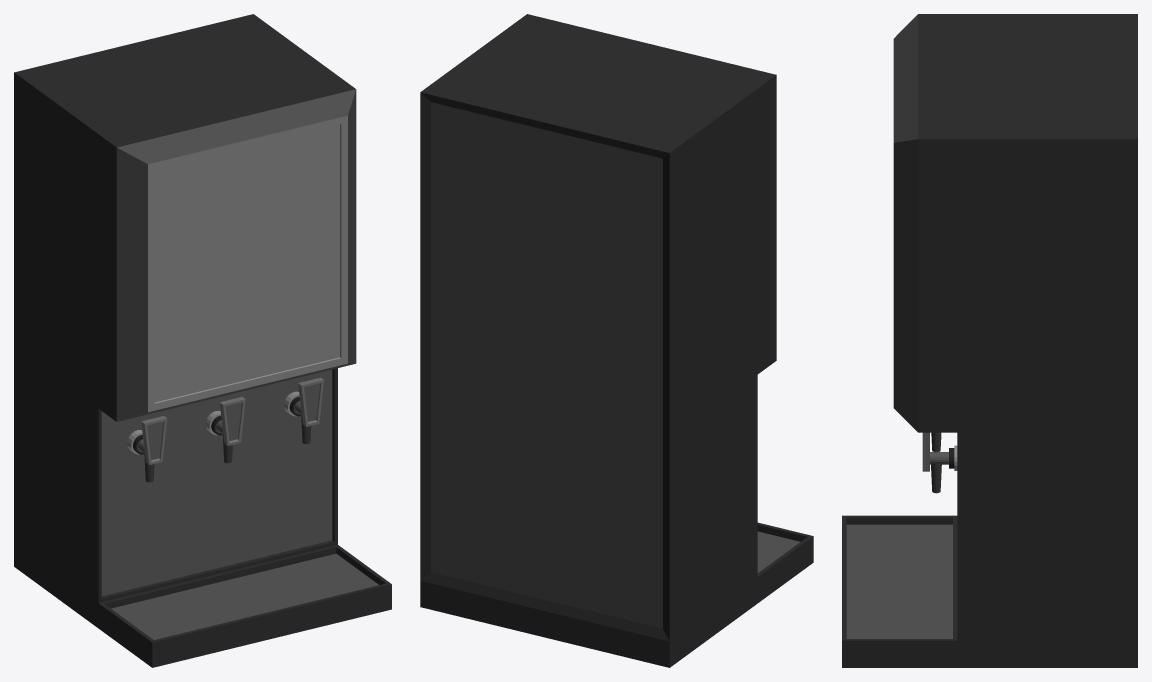
Rendered from Coffee Machine Multiple.fbx.
3 views of the same model, side by side, from view 1: azimuth 30°, elevation 25°; view 2: azimuth 150°, elevation 25°; view 3: azimuth 270°, elevation 25° (orthographic). The views are drawn at different scales.
Visible parts, largest first — view 1: Coffee Machine Multiple; view 2: Coffee Machine Multiple; view 3: Coffee Machine Multiple.
Boxes of the visible parts, <box> form: Coffee Machine Multiple: <box>14,14,391,667</box>; Coffee Machine Multiple: <box>420,14,813,667</box>; Coffee Machine Multiple: <box>842,14,1137,667</box>.
Bounding box in the file's own units: 49.43 × 97.54 × 49.43.
2 materials, 2 textured.
